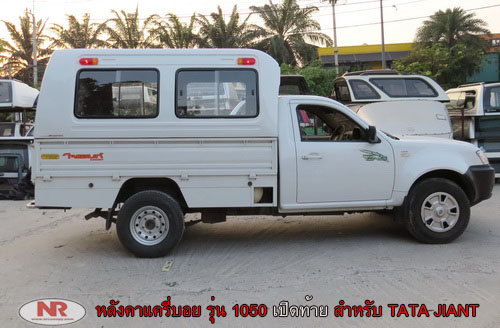pickup: (28, 47, 499, 267)
